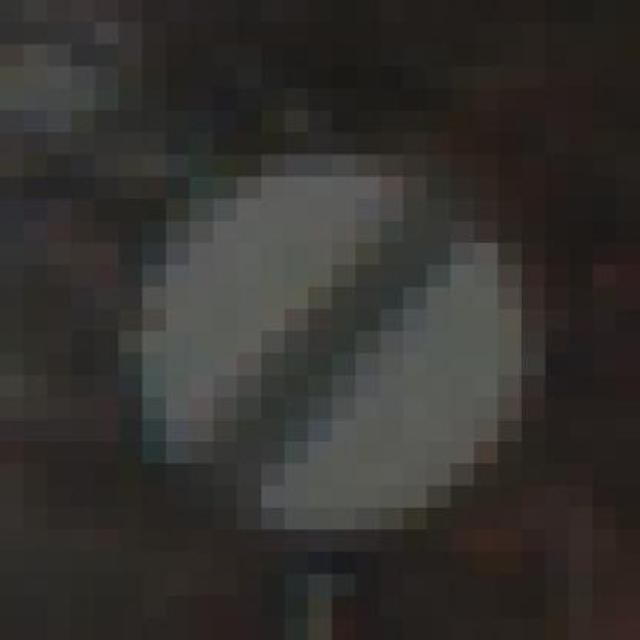End of all speed and passing limits: (118, 110, 545, 552)
